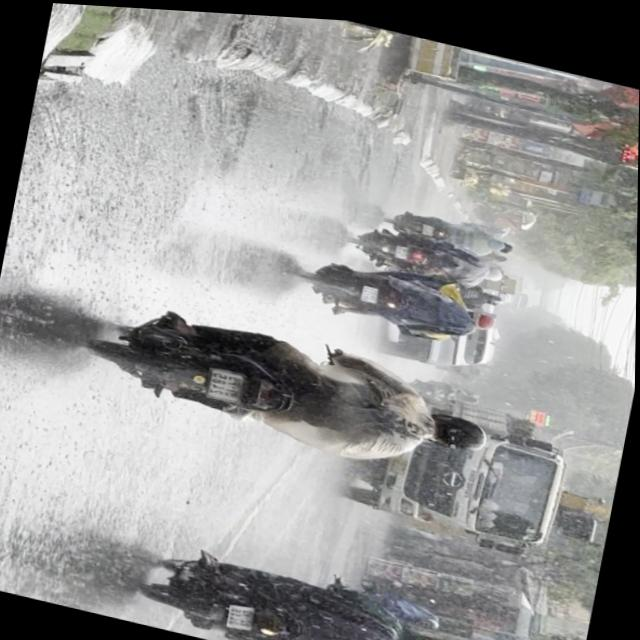helmet: (426, 405, 492, 452), (462, 302, 497, 326), (418, 628, 465, 640), (398, 638, 450, 640)
licenseplate: (78, 288, 503, 488), (127, 529, 476, 640), (289, 248, 504, 348)
nohelmet: (206, 364, 244, 400), (226, 601, 257, 629), (360, 280, 379, 300)
